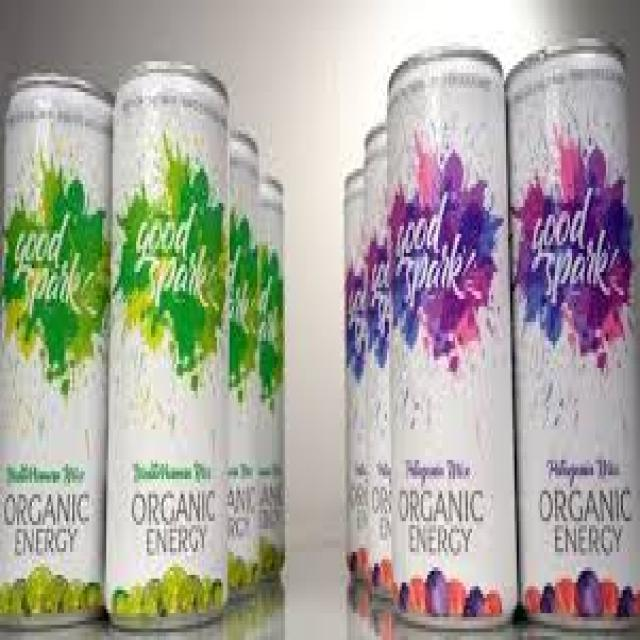Lata: (389, 66, 516, 621), (107, 55, 228, 628)
